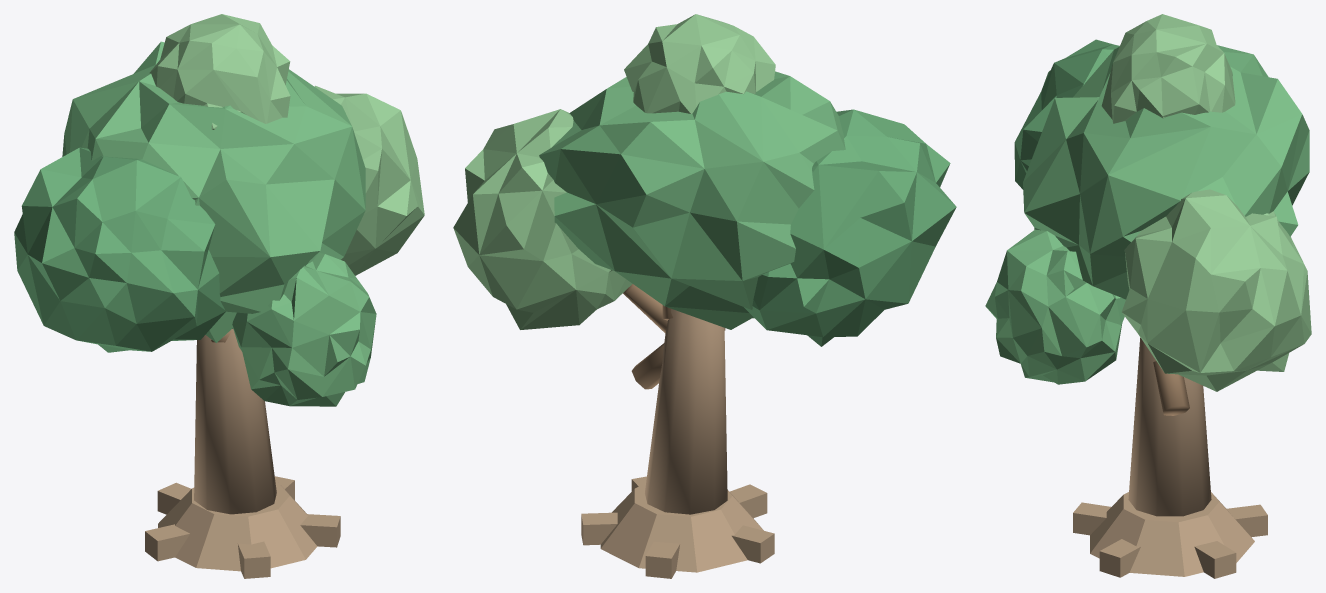
Rendered from Tree_A_03_LOD1.glb.
3 views of the same model, side by side, from view 1: azimuth 30°, elevation 25°; view 2: azimuth 150°, elevation 25°; view 3: azimuth 270°, elevation 25° (orthographic). The views are drawn at different scales.
Visible parts, largest first — view 1: BW_TreeA_V03_Canopy_01_LOD1, BW_TreeA_V03_Canopy_02_LOD1, BW_TreeA_V03_Canopy_05_LOD1, BW_TreeA_V03_Trunk_LOD1, BW_TreeA_V03_Roots_LOD1, BW_TreeA_V03_Canopy_04_LOD1, BW_TreeA_V03_Canopy_03_LOD1; view 2: BW_TreeA_V03_Canopy_01_LOD1, BW_TreeA_V03_Canopy_02_LOD1, BW_TreeA_V03_Canopy_03_LOD1, BW_TreeA_V03_Trunk_LOD1, BW_TreeA_V03_Roots_LOD1, BW_TreeA_V03_Canopy_04_LOD1, BW_TreeA_V03_Branches_LOD1; view 3: BW_TreeA_V03_Canopy_01_LOD1, BW_TreeA_V03_Canopy_03_LOD1, BW_TreeA_V03_Canopy_05_LOD1, BW_TreeA_V03_Roots_LOD1, BW_TreeA_V03_Canopy_04_LOD1, BW_TreeA_V03_Trunk_LOD1, BW_TreeA_V03_Canopy_02_LOD1, BW_TreeA_V03_Branches_LOD1.
Boxes of the visible parts, bbox=[...] form: BW_TreeA_V03_Canopy_01_LOD1: bbox=[62, 41, 365, 342]; BW_TreeA_V03_Canopy_02_LOD1: bbox=[14, 147, 225, 352]; BW_TreeA_V03_Canopy_05_LOD1: bbox=[232, 253, 376, 406]; BW_TreeA_V03_Trunk_LOD1: bbox=[194, 329, 276, 514]; BW_TreeA_V03_Roots_LOD1: bbox=[145, 476, 340, 578]; BW_TreeA_V03_Canopy_04_LOD1: bbox=[149, 14, 290, 129]; BW_TreeA_V03_Canopy_03_LOD1: bbox=[314, 85, 424, 275]; BW_TreeA_V03_Canopy_01_LOD1: bbox=[539, 71, 845, 329]; BW_TreeA_V03_Canopy_02_LOD1: bbox=[744, 109, 956, 346]; BW_TreeA_V03_Canopy_03_LOD1: bbox=[453, 109, 632, 329]; BW_TreeA_V03_Trunk_LOD1: bbox=[645, 309, 727, 514]; BW_TreeA_V03_Roots_LOD1: bbox=[581, 476, 774, 578]; BW_TreeA_V03_Canopy_04_LOD1: bbox=[624, 14, 775, 113]; BW_TreeA_V03_Branches_LOD1: bbox=[623, 284, 725, 389]; BW_TreeA_V03_Canopy_01_LOD1: bbox=[1023, 45, 1309, 299]; BW_TreeA_V03_Canopy_03_LOD1: bbox=[1122, 189, 1311, 391]; BW_TreeA_V03_Canopy_05_LOD1: bbox=[985, 229, 1125, 384]; BW_TreeA_V03_Roots_LOD1: bbox=[1073, 492, 1267, 578]; BW_TreeA_V03_Canopy_04_LOD1: bbox=[1101, 14, 1235, 123]; BW_TreeA_V03_Trunk_LOD1: bbox=[1128, 337, 1211, 516]; BW_TreeA_V03_Canopy_02_LOD1: bbox=[1014, 39, 1119, 189]; BW_TreeA_V03_Branches_LOD1: bbox=[1153, 361, 1189, 415].
Bounding box in the file's own units: 4.35 × 5.11 × 2.97.
